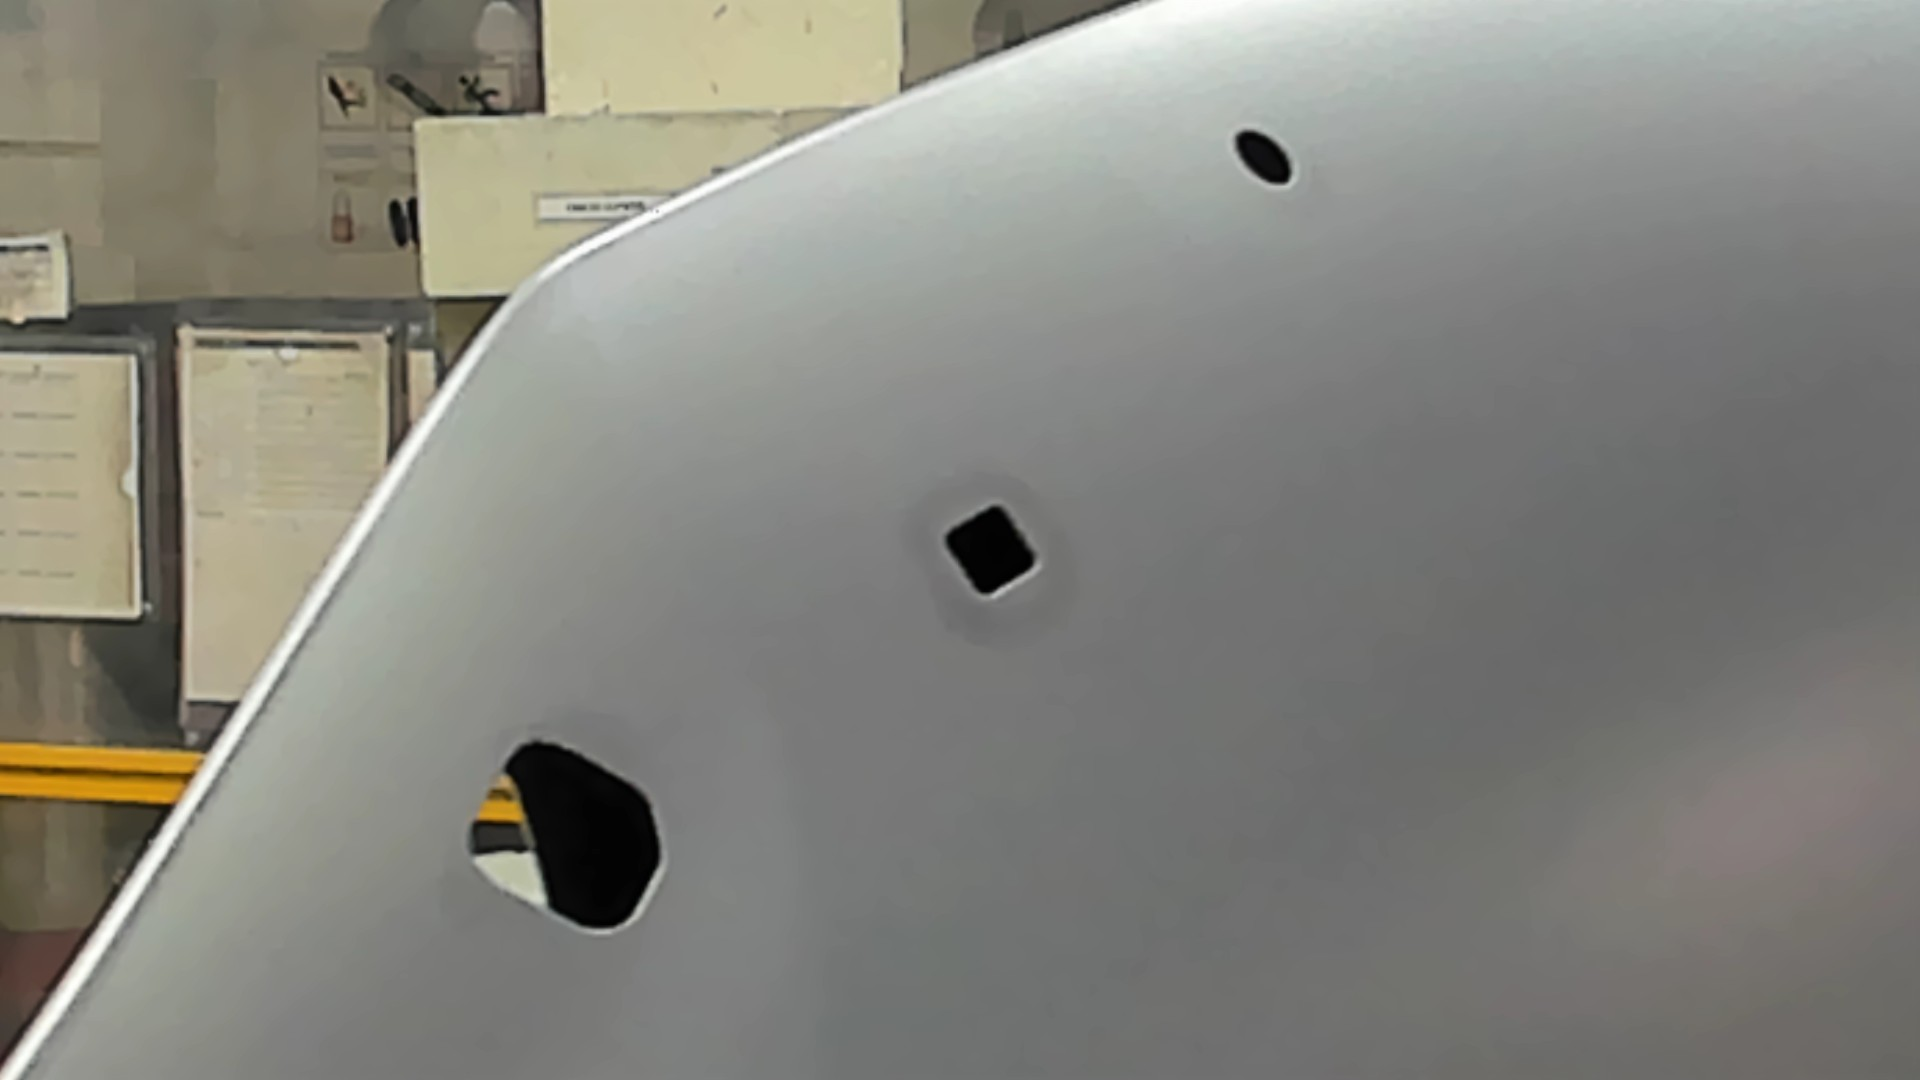capo: (1047, 191, 1920, 1080)
chico: (1225, 123, 1302, 194)
grande: (465, 729, 669, 942)
mediano: (934, 492, 1048, 604)
